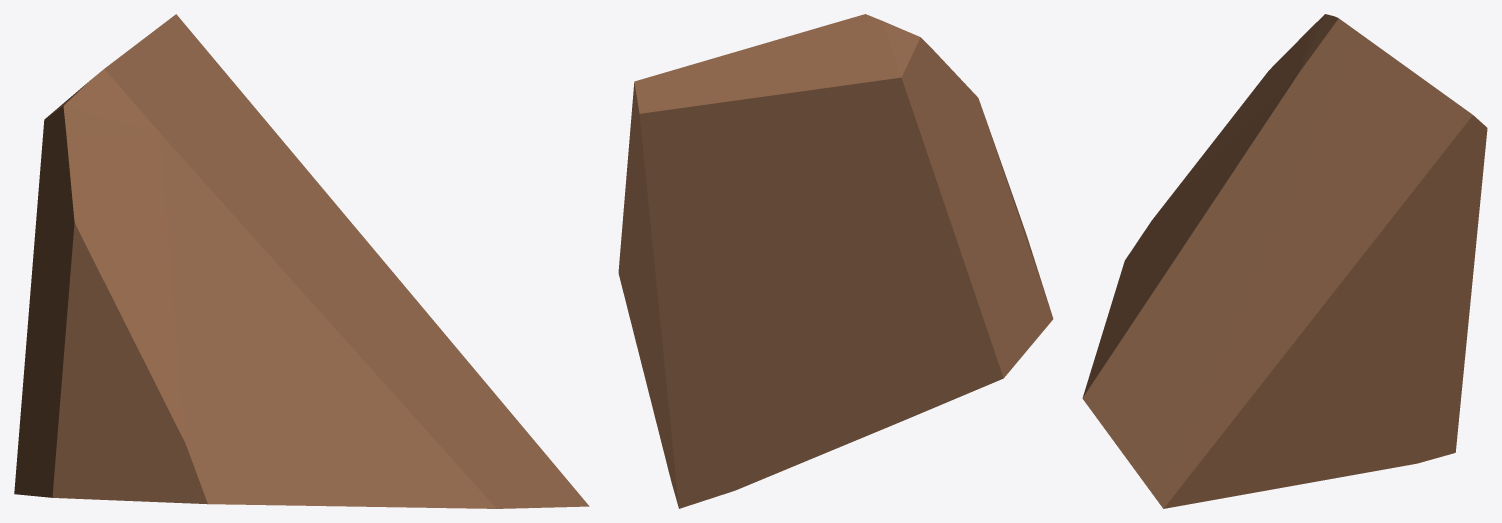
Rendered from WoodCellCube_003_cell_049.fbx.
3 views of the same model, side by side, from view 1: azimuth 30°, elevation 25°; view 2: azimuth 150°, elevation 25°; view 3: azimuth 270°, elevation 25° (orthographic). The views are drawn at different scales.
Parts seen in each view (by area): view 1: WoodCellCube_003_cell_049; view 2: WoodCellCube_003_cell_049; view 3: WoodCellCube_003_cell_049.
Part boxes in pixels (bbox=[...]): WoodCellCube_003_cell_049: bbox=[14, 14, 589, 508]; WoodCellCube_003_cell_049: bbox=[618, 14, 1053, 508]; WoodCellCube_003_cell_049: bbox=[1082, 14, 1487, 508].
Bounding box in the file's own units: 0.2531 × 0.2675 × 0.2805.
Materials: 1 (1 with a texture image).
